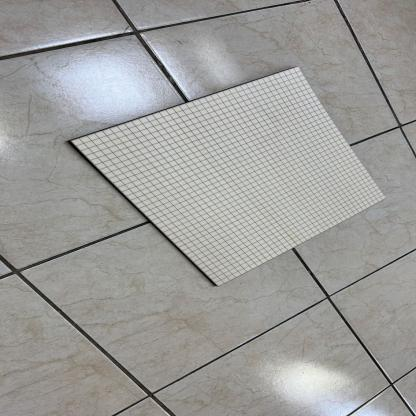grid: (51, 62, 397, 296)
